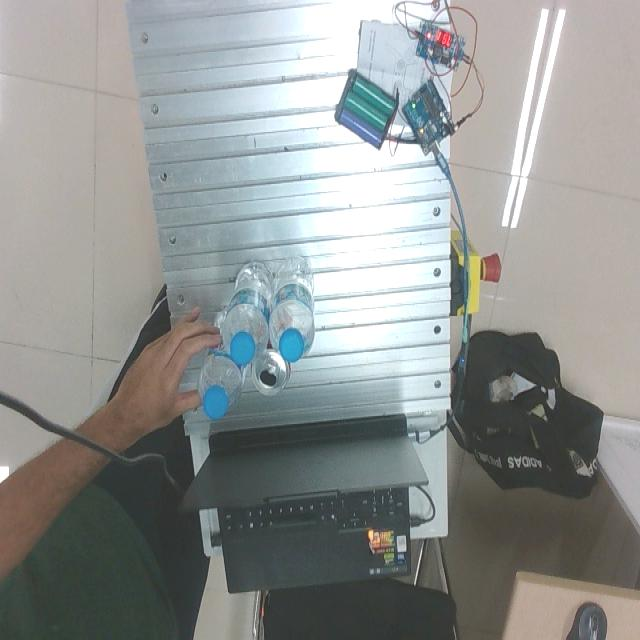coca: (251, 340, 292, 397)
lavie: (197, 309, 250, 419), (221, 260, 273, 367), (270, 259, 316, 361)
